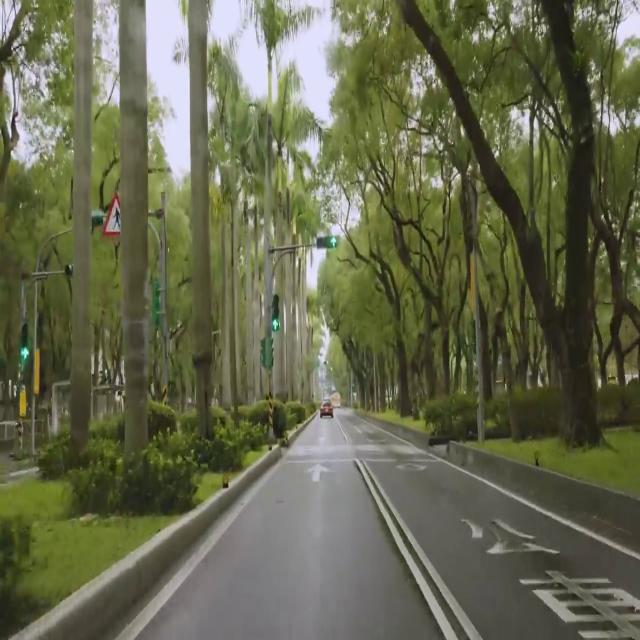green light: (316, 236, 337, 248)
